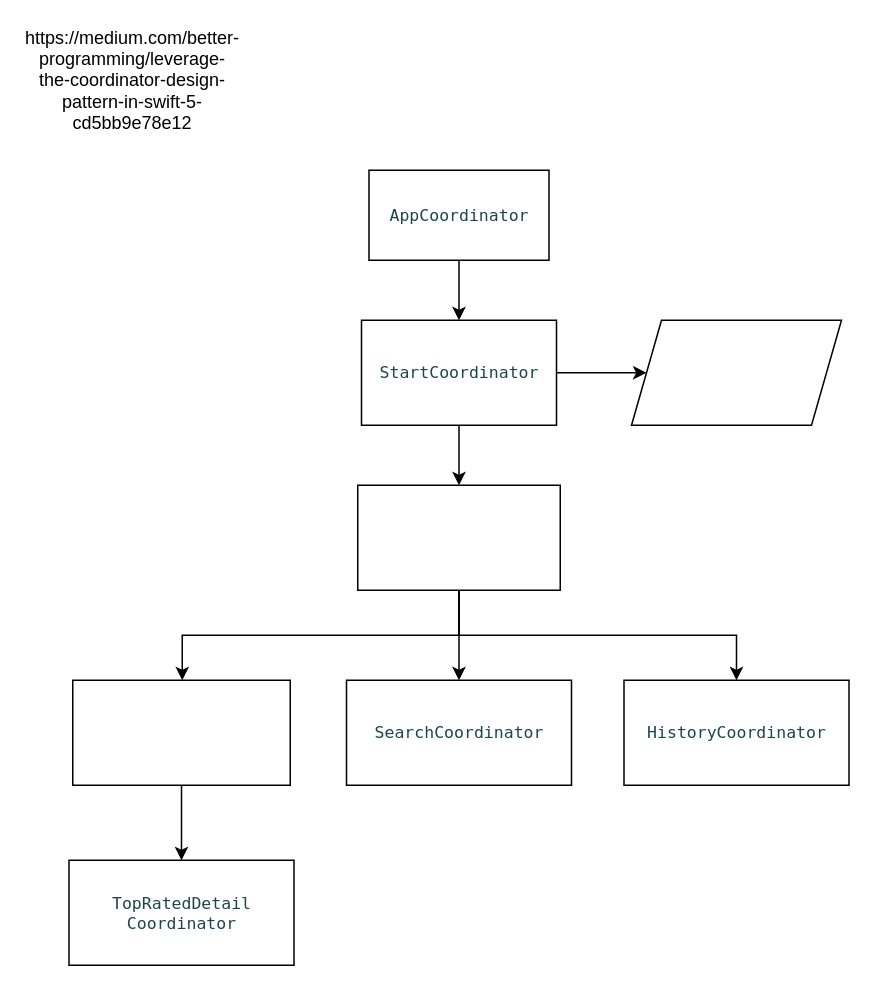
Image size: 876x992. Some labels were removed from this diagram. Each missing label, with the centre of its shape:
"Start ViewController" belongs at point (736, 372).
"TabBarCoordinator" belongs at point (458, 537).
"TopRatedCoordinator" belongs at point (180, 732).
